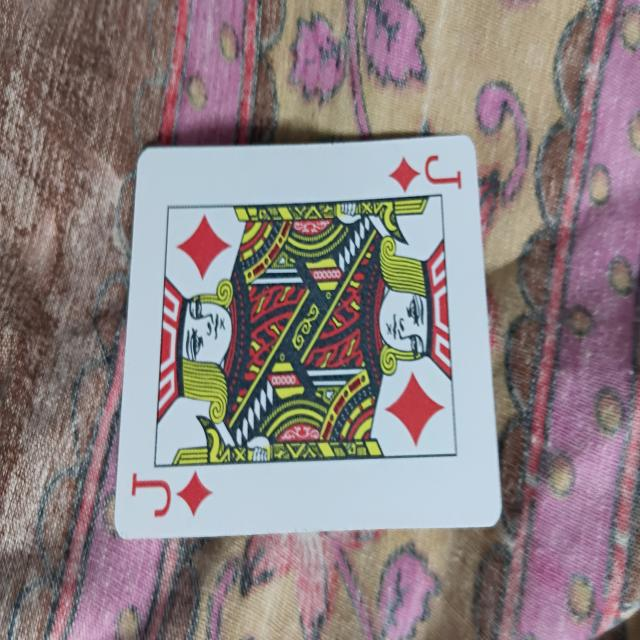JD: (126, 151, 503, 535)
